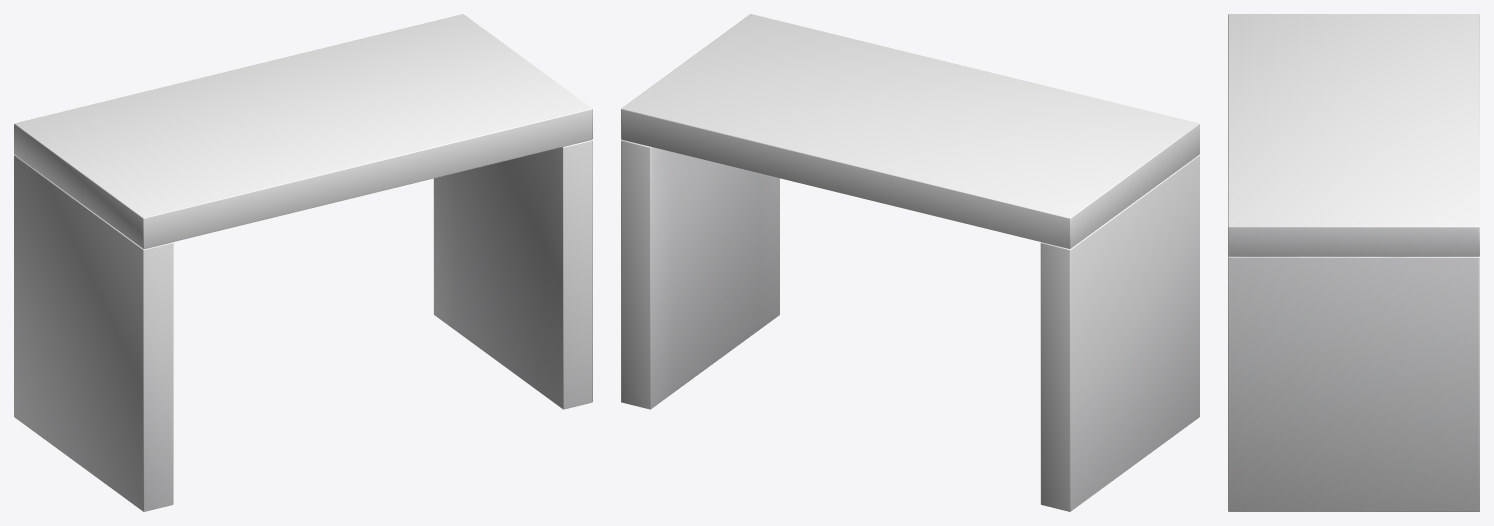
File: levante_75_170x60_white_wood.glb
3 views of the same model, side by side, from view 1: azimuth 30°, elevation 25°; view 2: azimuth 150°, elevation 25°; view 3: azimuth 270°, elevation 25° (orthographic). The views are drawn at different scales.
Visible parts, largest first — view 1: levante_75_120-white; view 2: levante_75_120-white; view 3: levante_75_120-white.
Boxes of the visible parts, left/top/right/bottom form: levante_75_120-white: left=14, top=14, right=592, bottom=511; levante_75_120-white: left=621, top=14, right=1199, bottom=511; levante_75_120-white: left=1228, top=14, right=1479, bottom=511.
Bounding box in the file's own units: 1.2 × 0.7498 × 0.5997.
Materials: 1 (1 with a texture image).
